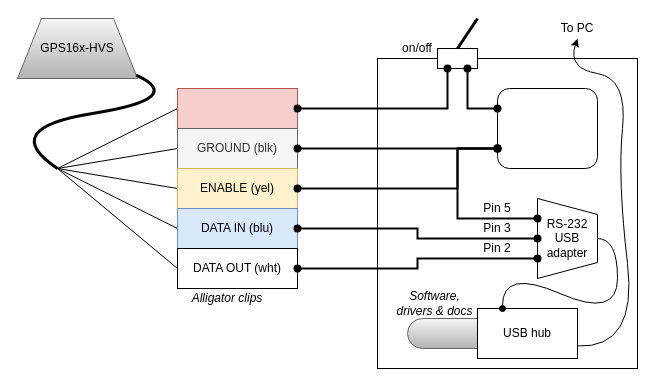
This 655x386 diagram has some shape labels left out. Each missing label, with the centre of its shape:
"9V alkaline battery" belongs at pixel 547 128.
"memory stick" belongs at pixel 467 333.
"POWER (red)" belongs at pixel 237 108.
